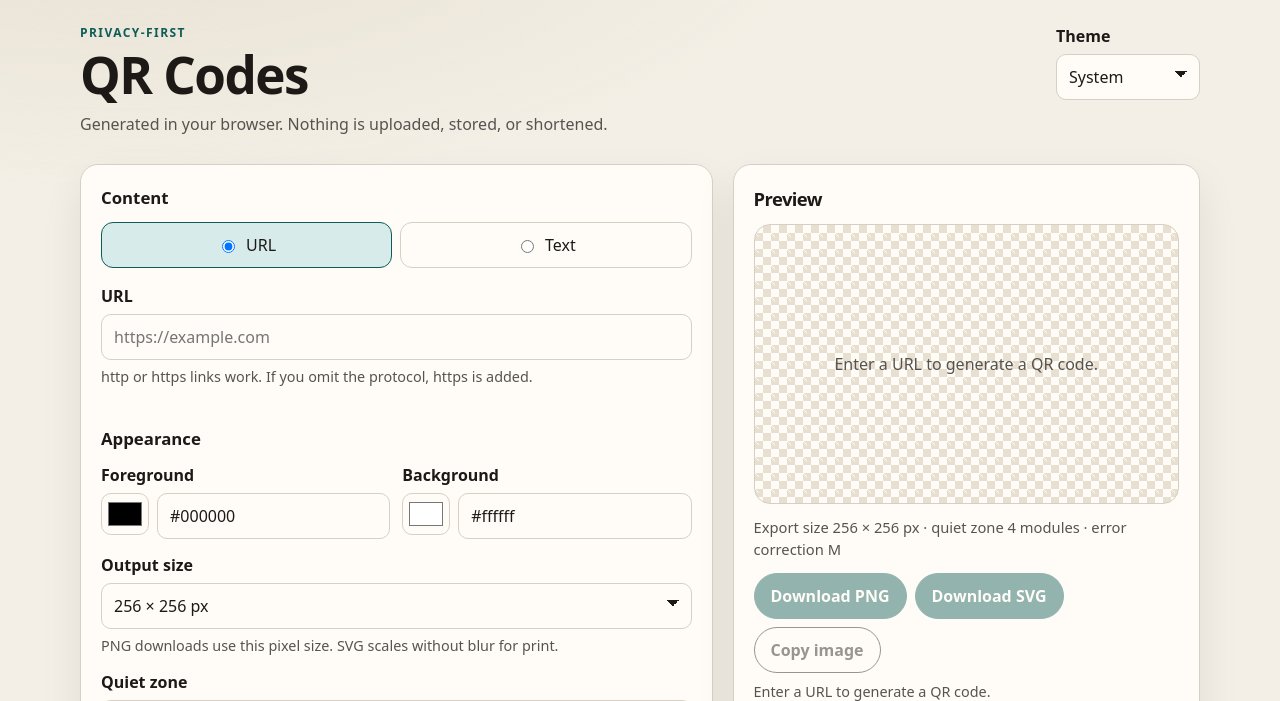
Test: QR Codes app › warns when contrast may be difficult to scan
This screenshot has width=1280, height=701.
Replace the text in the field labelled "Foreground" with "#888888" at [274, 516], box [157,493,390,539]
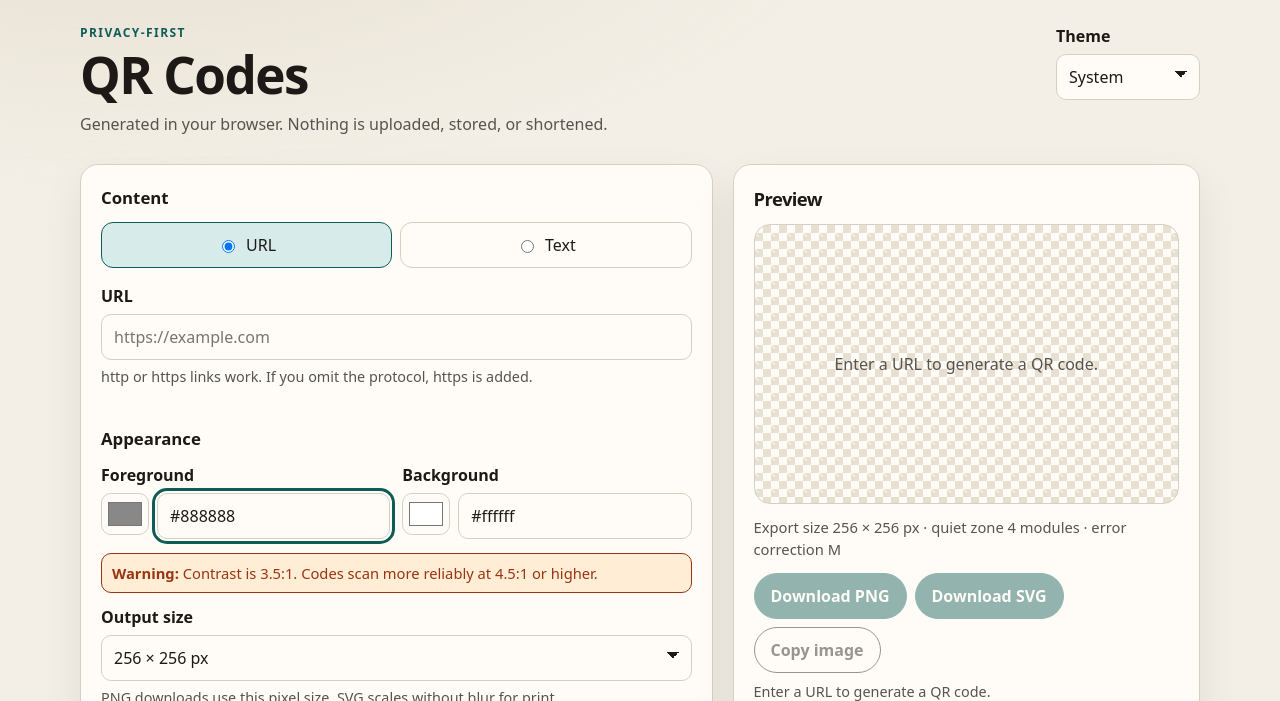
Expected: the text "Contrast is 3.5:1. Codes scan more reliably at 4.5:1 or higher." is shown, [101,553,692,593]
